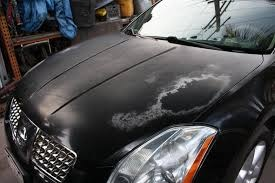Scratch: (109, 74, 231, 133)
